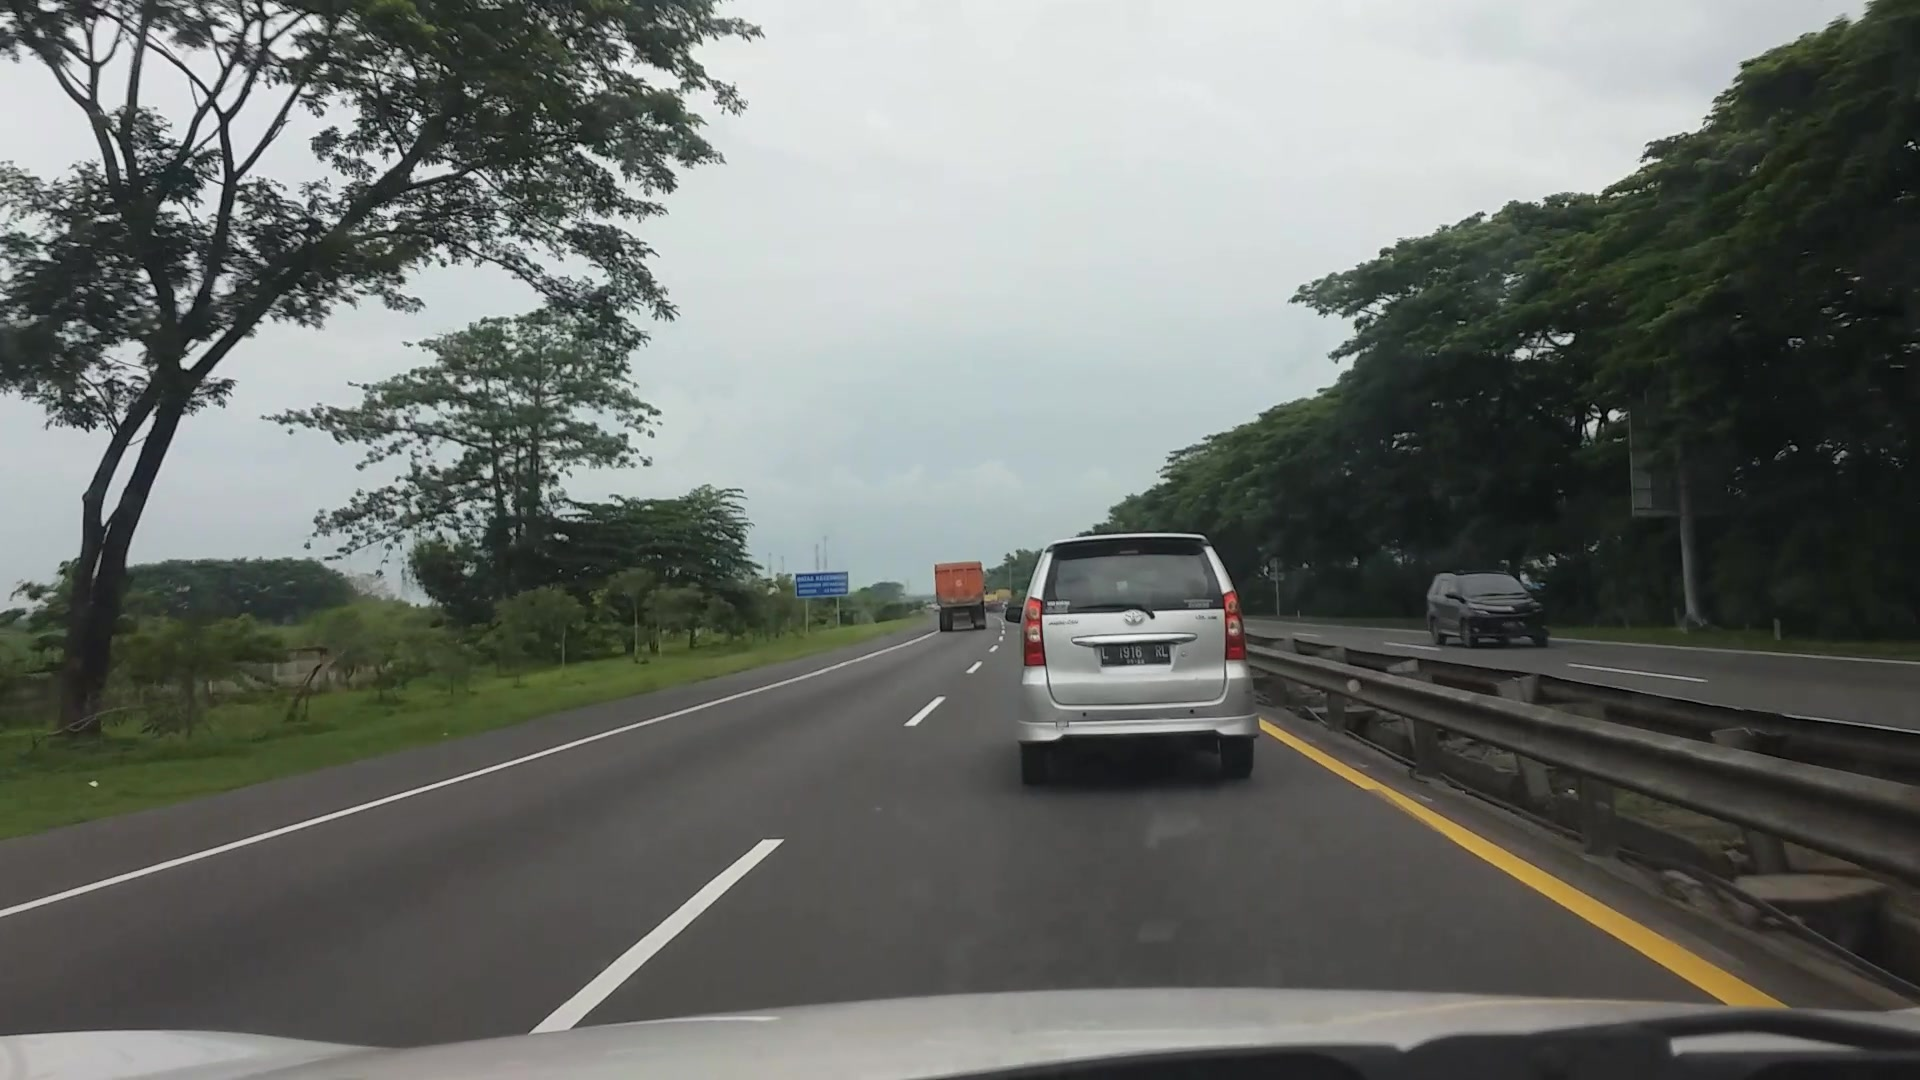plate_positive: (1101, 644, 1171, 665)
